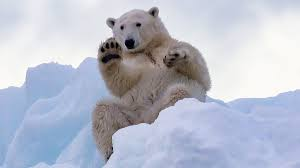PolarBear: (82, 5, 213, 155)
